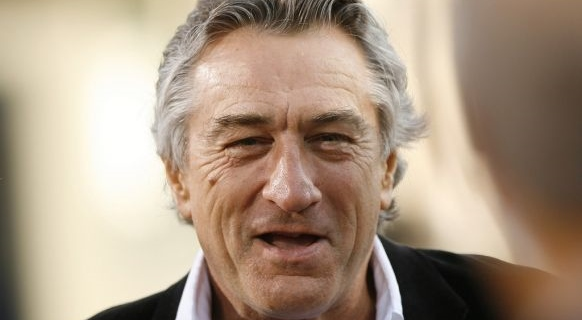mole: (206, 175, 221, 188)
